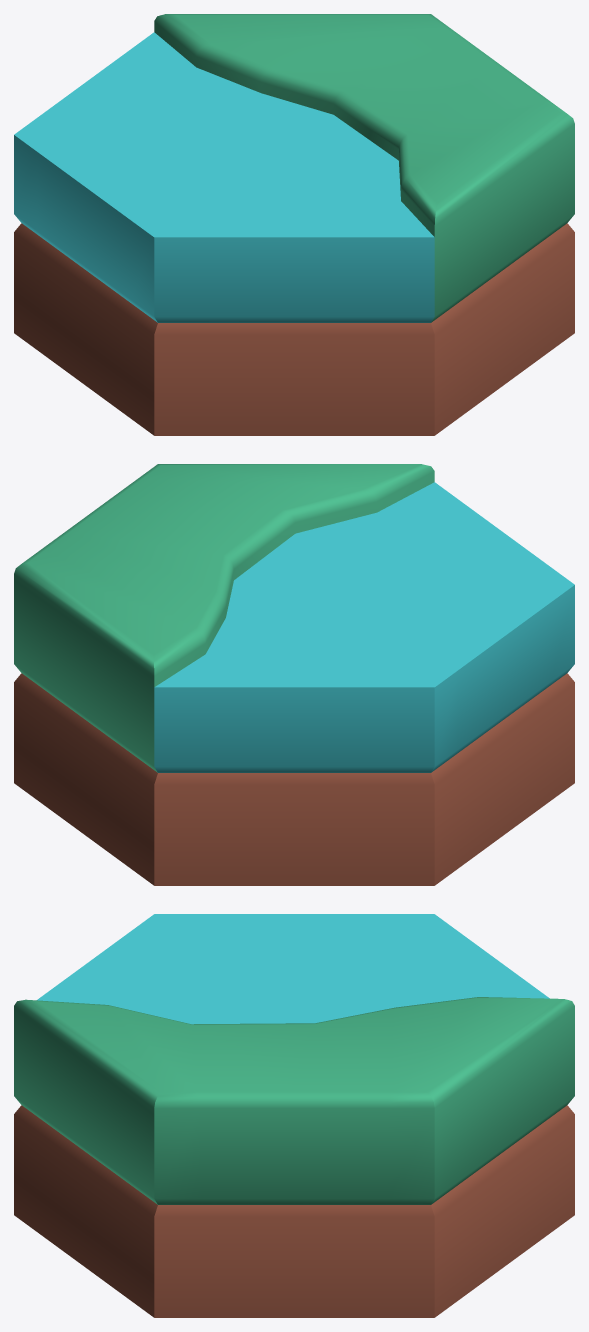
The model's file is hex_forest_waterC_detail.glb.
3 renders of one model, top to bottom at view 1: azimuth 30°, elevation 25°; view 2: azimuth 150°, elevation 25°; view 3: azimuth 270°, elevation 25°, orthographic.
Parts seen in each view (by area): view 1: hex_forest_waterC_detail; view 2: hex_forest_waterC_detail; view 3: hex_forest_waterC_detail.
Part boxes in pixels (box(x1,y1,x2,y2)): hex_forest_waterC_detail: box(14, 14, 574, 435); hex_forest_waterC_detail: box(14, 464, 574, 885); hex_forest_waterC_detail: box(14, 914, 574, 1317).
Bounding box in the file's own units: 2 × 1 × 2.31.
